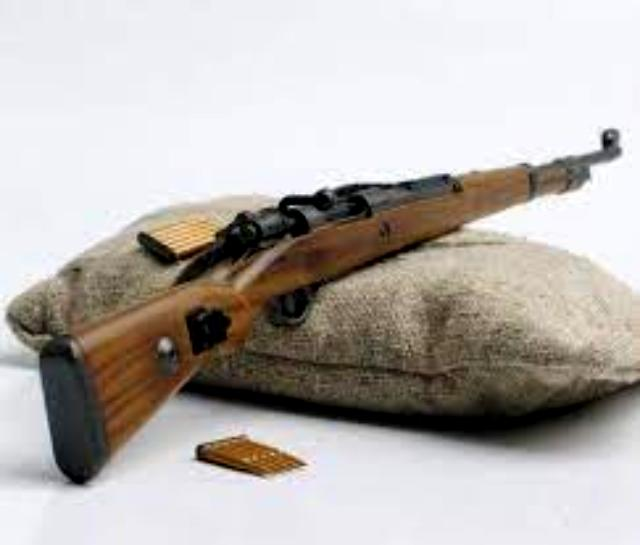rifle: (34, 128, 626, 492)
